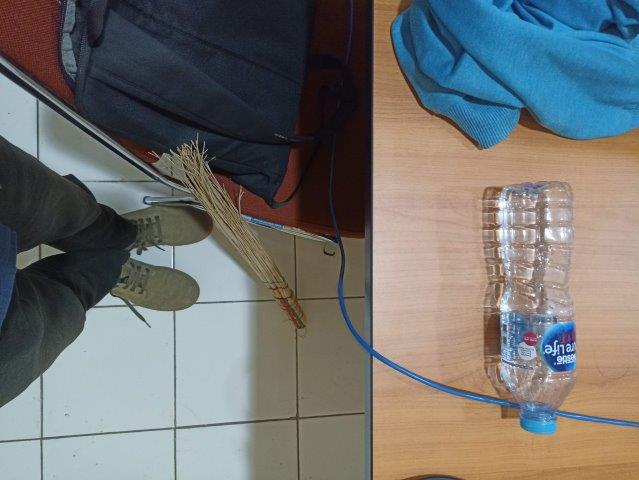botolplastik: (500, 181, 577, 432)
